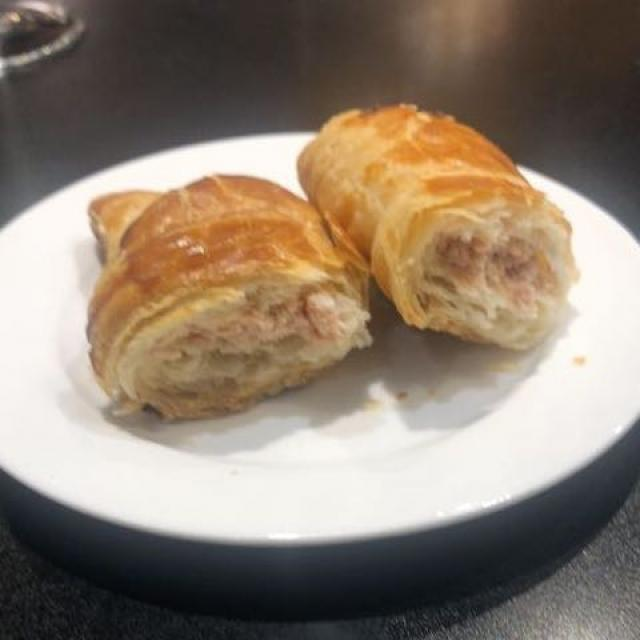croissant: (94, 109, 573, 417)
